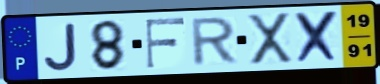8: (88, 18, 128, 73)
F: (144, 16, 188, 70)
J: (42, 21, 80, 73)
R: (190, 15, 240, 69)
X: (245, 11, 296, 68), (293, 9, 342, 66)
